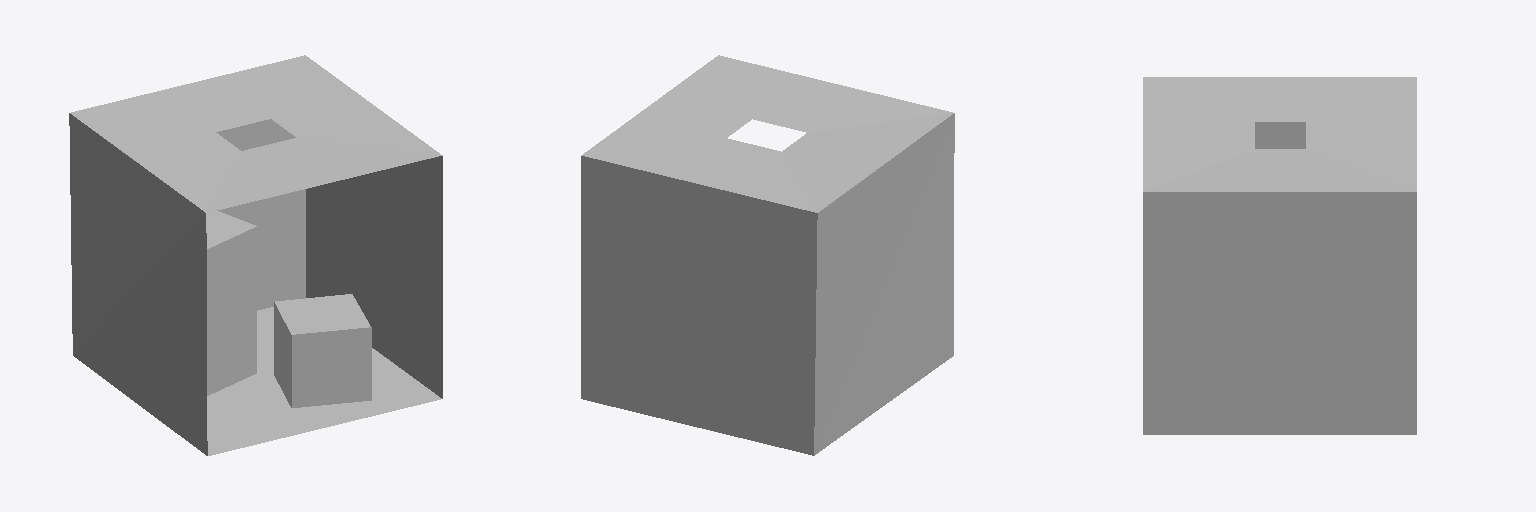
The model's file is cubes.obj.
3 views of the same model, side by side, from view 1: azimuth 30°, elevation 25°; view 2: azimuth 150°, elevation 25°; view 3: azimuth 270°, elevation 25° (orthographic).
Visible parts, largest first — view 1: cornellbox.003; view 2: cornellbox.003; view 3: cornellbox.003.
Boxes of the visible parts, x1=… form: cornellbox.003: x1=69, y1=55, x2=442, y2=455; cornellbox.003: x1=581, y1=55, x2=954, y2=455; cornellbox.003: x1=1143, y1=77, x2=1416, y2=434.
Size of the model in its own units: 2.02 by 1.99 by 2.03.